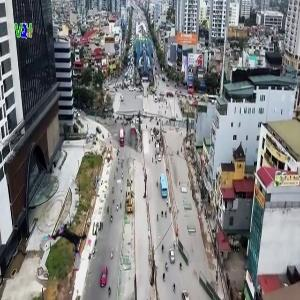drone: (40, 219, 93, 272)
